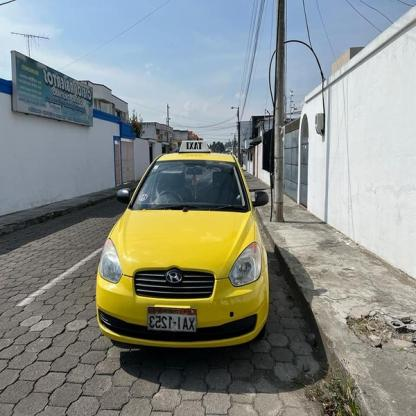Placa: (144, 304, 200, 337)
